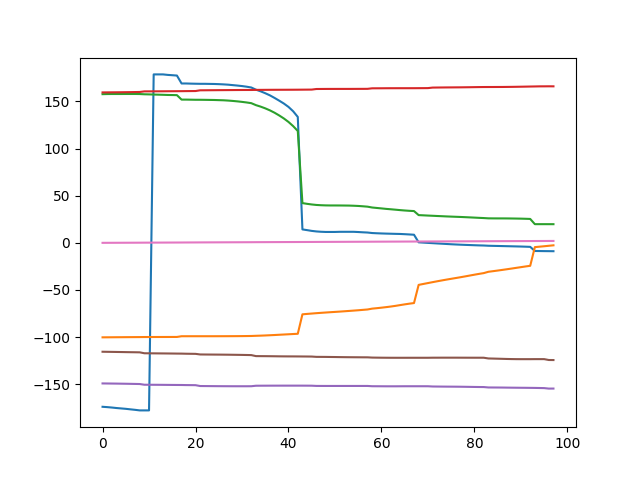Good_Bicep_Curl_Down: (2, 1, 640, 480)
